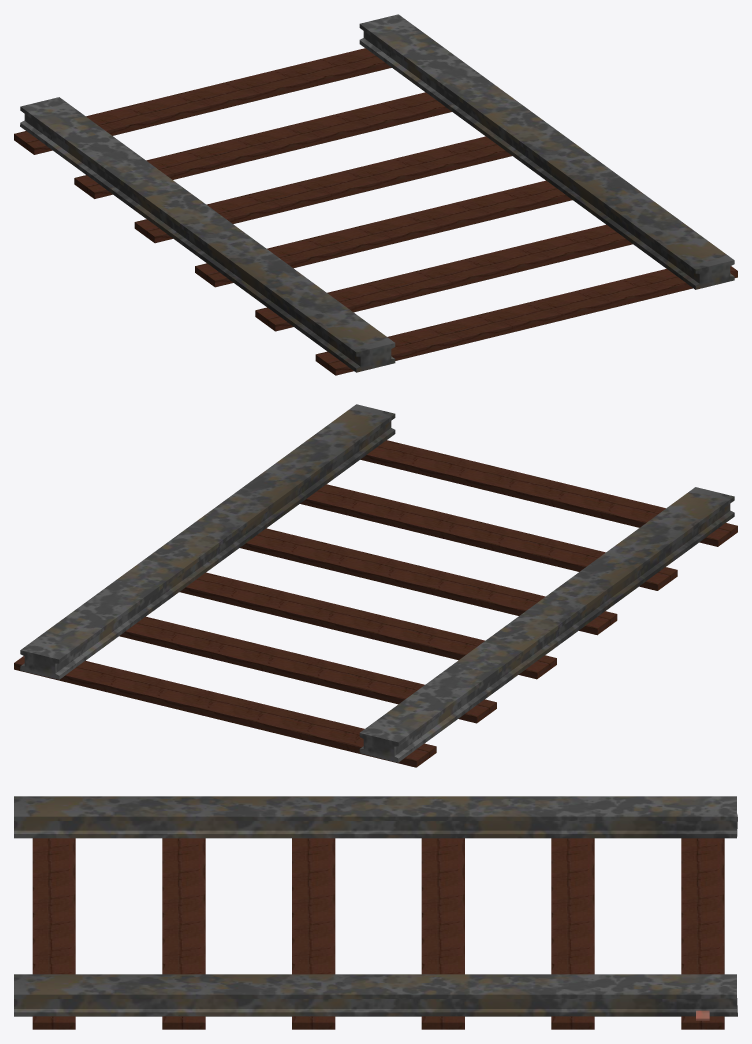
File: Trilho.fbx
3 renders of one model, top to bottom at view 1: azimuth 30°, elevation 25°; view 2: azimuth 150°, elevation 25°; view 3: azimuth 270°, elevation 25°, orthographic. The views are drawn at different scales.
Parts seen in each view (by area): view 1: Trilho; view 2: Trilho; view 3: Trilho.
Boxes of the visible parts, bbox=[...] form: Trilho: bbox=[14, 14, 737, 375]; Trilho: bbox=[14, 404, 737, 767]; Trilho: bbox=[14, 796, 737, 1029].
Size of the model in its own units: 205 by 12.94 by 297.
